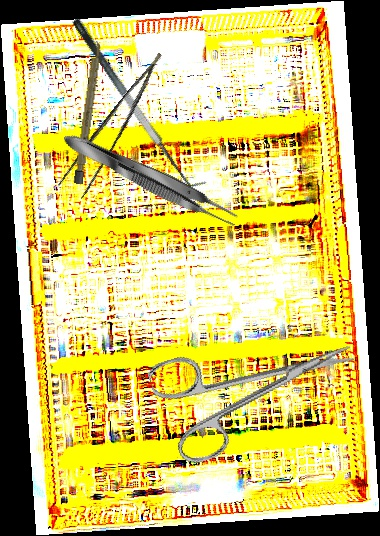Iris Scissors: (145, 305, 370, 470)
Scalpel Handle: (73, 40, 103, 185)
Spatula Surgical: (69, 7, 208, 199)
Tissue Forceps: (52, 52, 184, 205), (58, 125, 243, 233)
